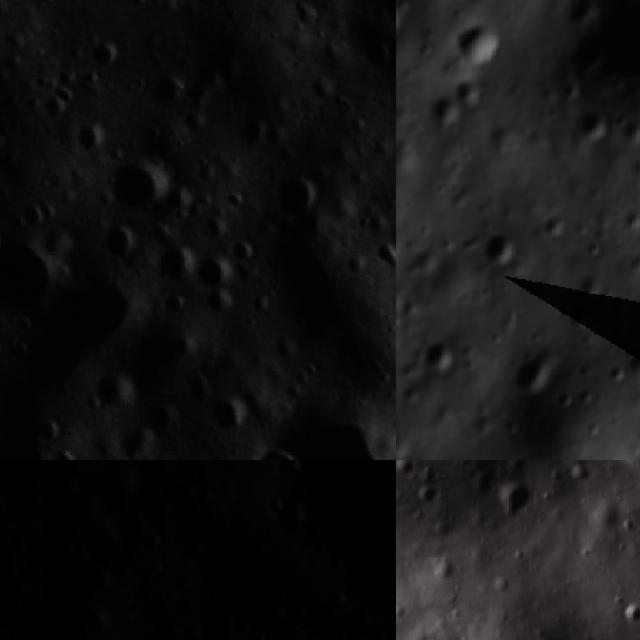crater: (262, 460, 396, 604), (16, 270, 154, 400), (242, 389, 396, 460), (546, 0, 640, 106), (0, 220, 66, 322), (216, 557, 290, 636), (500, 333, 575, 408), (101, 150, 177, 220), (448, 10, 514, 79), (266, 163, 336, 227), (262, 488, 320, 544), (34, 460, 92, 516), (568, 100, 621, 154), (88, 366, 142, 417), (474, 228, 530, 274), (348, 28, 396, 76), (157, 177, 204, 225), (320, 529, 366, 577), (81, 32, 128, 78), (28, 565, 74, 611), (67, 115, 115, 159), (496, 480, 542, 524), (147, 72, 194, 115), (421, 334, 462, 383), (13, 197, 62, 237), (207, 394, 251, 436), (34, 90, 80, 130), (170, 619, 257, 640), (80, 556, 122, 599), (112, 427, 165, 460), (197, 282, 240, 322), (195, 251, 238, 291), (231, 111, 273, 151), (321, 614, 383, 640), (132, 522, 172, 562), (428, 91, 466, 132), (63, 531, 102, 570), (60, 597, 98, 635), (223, 236, 264, 267), (283, 596, 319, 631), (247, 438, 304, 460), (265, 460, 310, 486), (34, 553, 68, 587), (451, 78, 484, 111), (232, 619, 281, 640), (30, 417, 60, 451), (396, 0, 417, 47), (158, 288, 192, 315), (542, 211, 569, 244), (0, 215, 15, 261), (617, 205, 640, 234), (622, 601, 640, 627), (265, 0, 323, 8)
